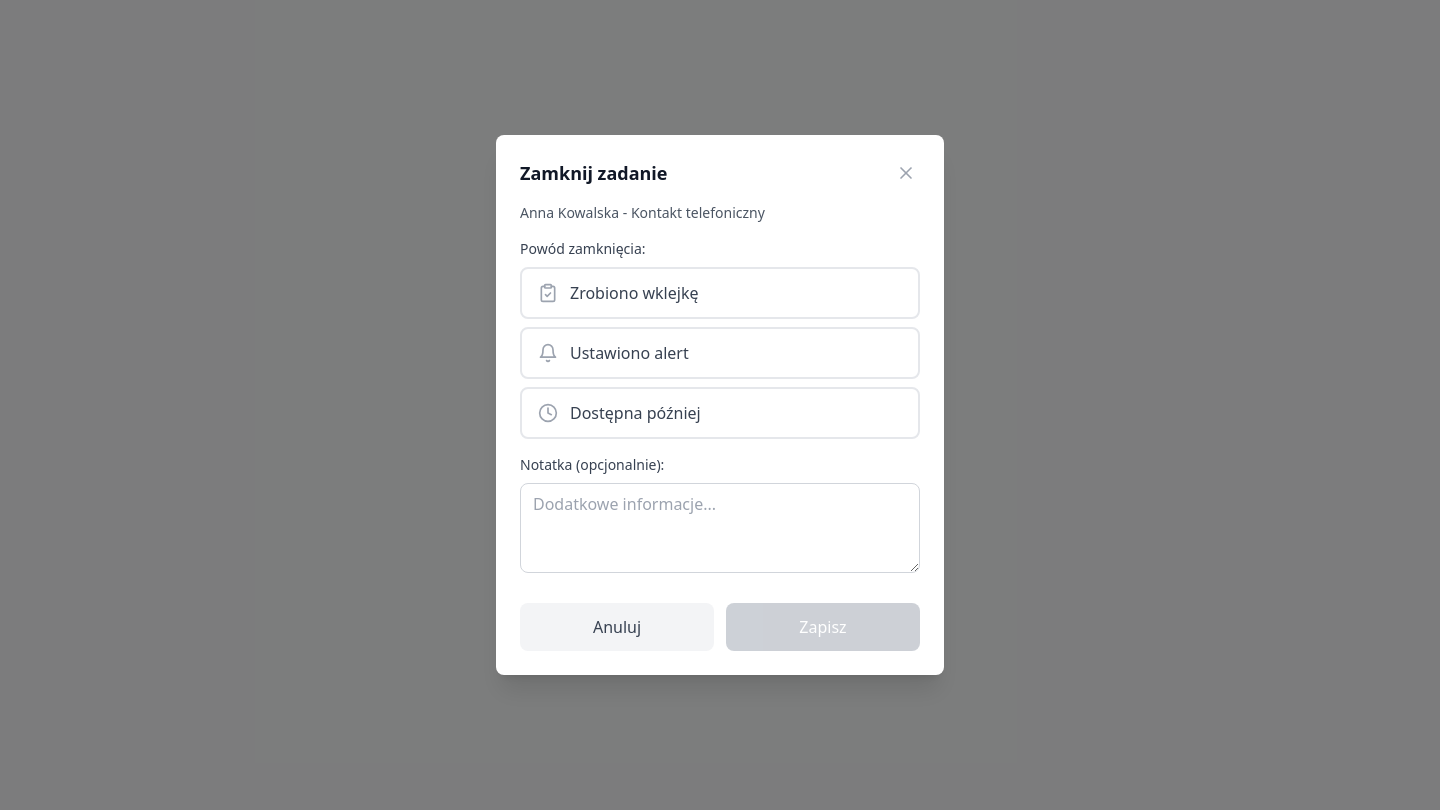
Test: CloseTaskDialog › should show Zamknij zadanie button after selecting a reason
Click the button with test id "reason-wklejka" at (634, 293), box [520,267,920,319]
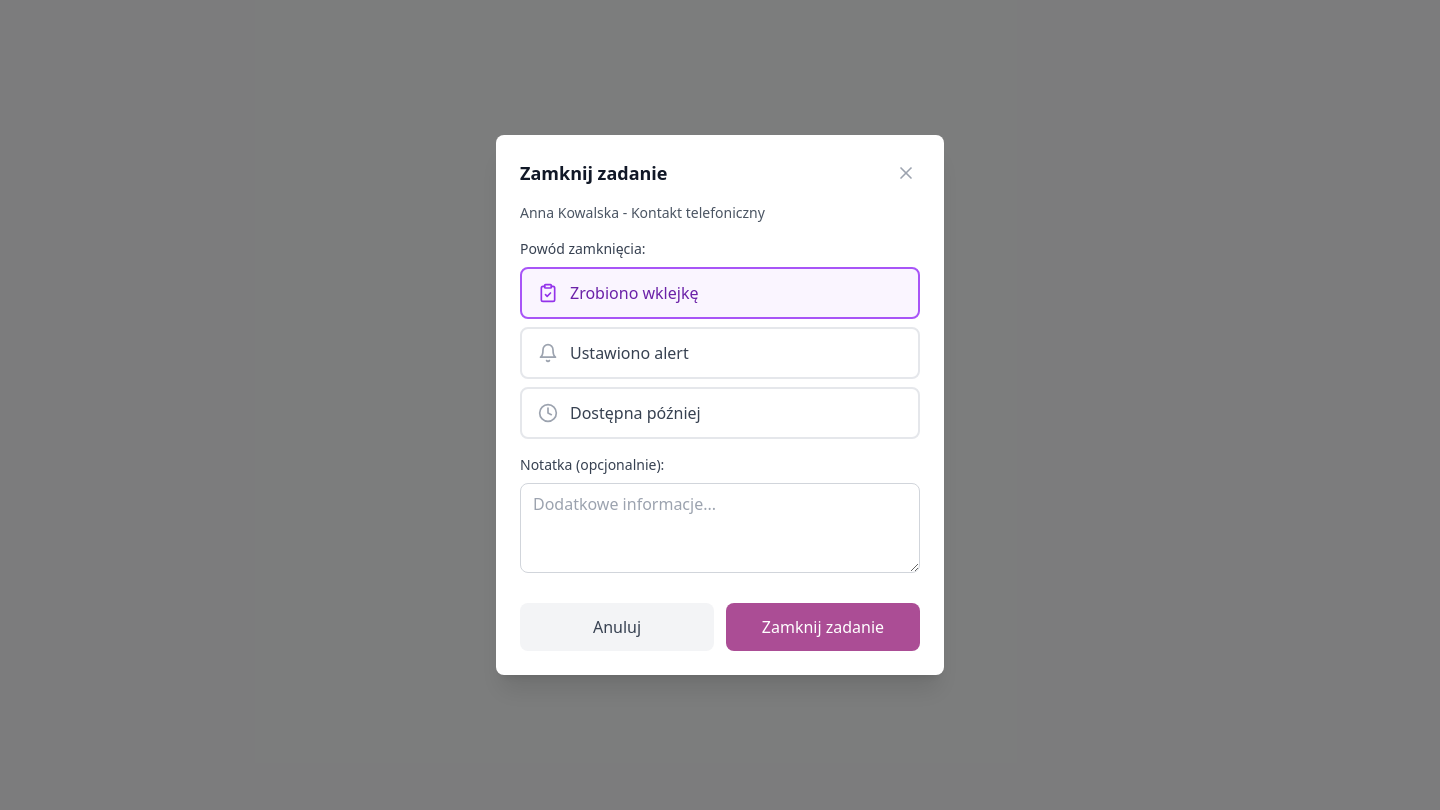
Expected: the button with test id "close-task-confirm" is enabled, [726,603,920,651]
Expected: the button with test id "close-task-confirm" reads "Zamknij zadanie", [726,603,920,651]
